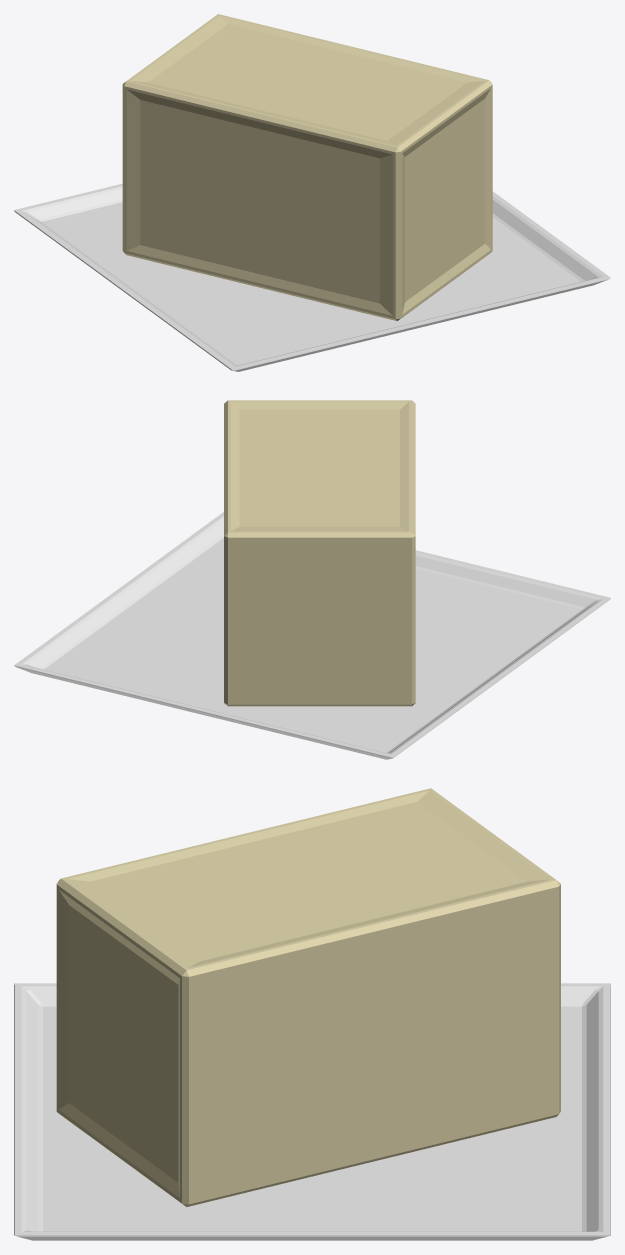
File: tofu.fbx
3 renders of one model, top to bottom at view 1: azimuth 30°, elevation 25°; view 2: azimuth 150°, elevation 25°; view 3: azimuth 270°, elevation 25°, orthographic. The views are drawn at different scales.
Visible parts, largest first — view 1: Tofu, tofu plate; view 2: Tofu, tofu plate; view 3: Tofu, tofu plate.
Boxes of the visible parts, bbox=[...] form: Tofu: bbox=[122, 14, 492, 321]; tofu plate: bbox=[14, 183, 610, 371]; Tofu: bbox=[224, 400, 415, 706]; tofu plate: bbox=[14, 512, 610, 759]; Tofu: bbox=[56, 788, 560, 1206]; tofu plate: bbox=[14, 983, 610, 1240].
Bounding box in the file's own units: 232 × 113 × 232.
